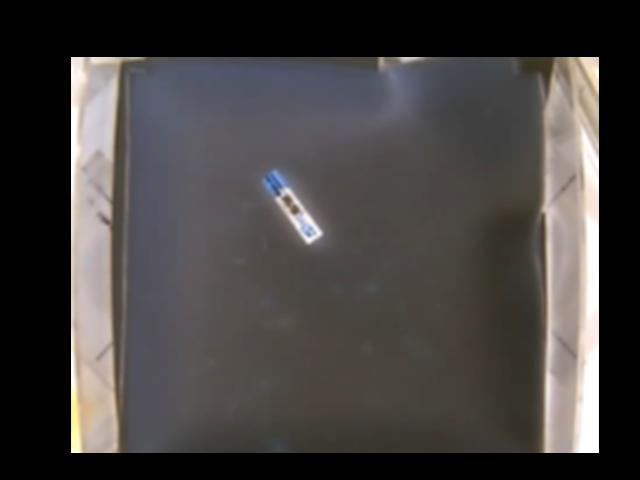Battery: (260, 170, 322, 241)
